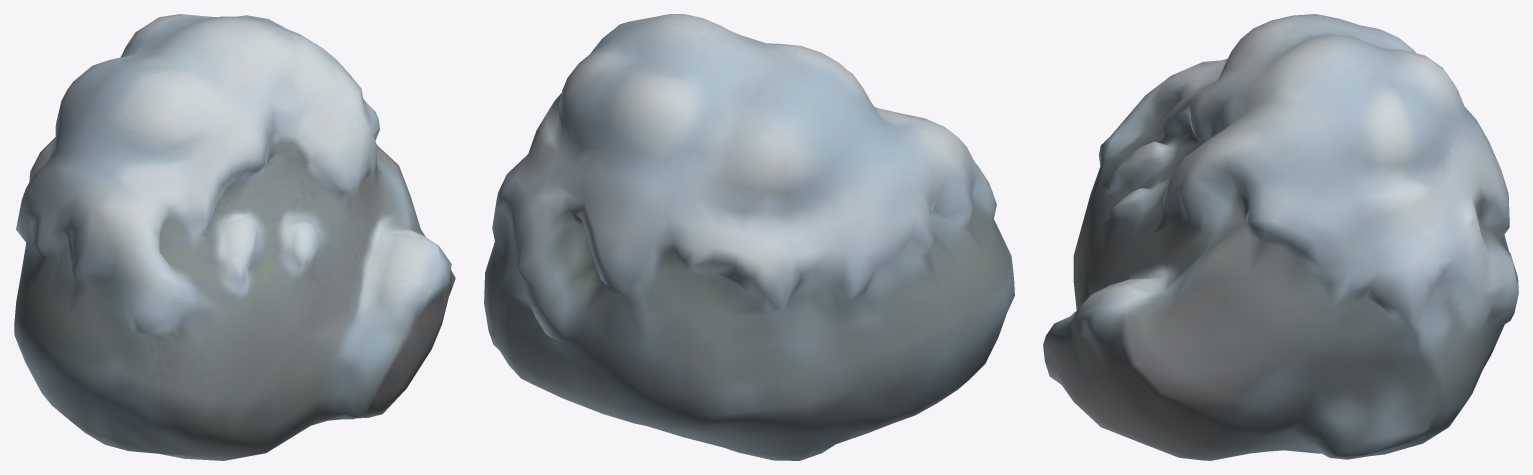
The model's file is event_boulder.glb.
3 renders of one model, left to right at view 1: azimuth 30°, elevation 25°; view 2: azimuth 150°, elevation 25°; view 3: azimuth 270°, elevation 25°, orthographic. The views are drawn at different scales.
Visible parts, largest first — view 1: event_boulder; view 2: event_boulder; view 3: event_boulder.
Boxes of the visible parts, bbox=[...] form: event_boulder: bbox=[14, 14, 455, 460]; event_boulder: bbox=[484, 14, 1014, 460]; event_boulder: bbox=[1043, 14, 1518, 460].
Bounding box in the file's own units: 1.09 × 1 × 1.09.
1 material, 1 textured.
